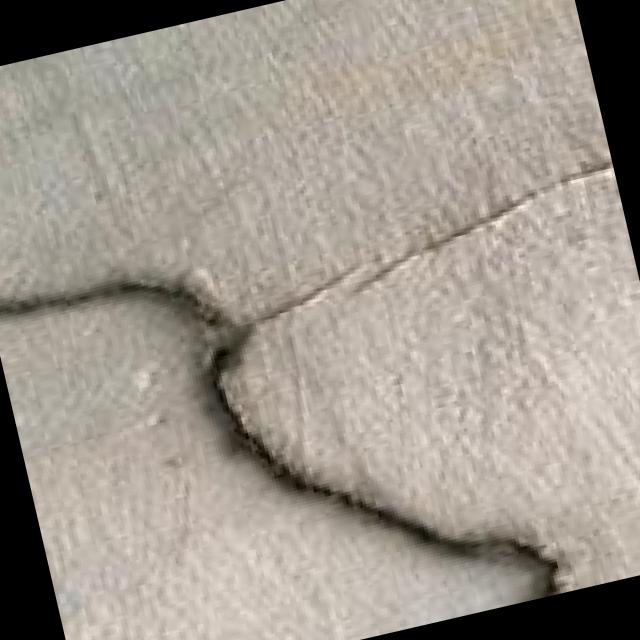crack: (0, 131, 588, 640)
